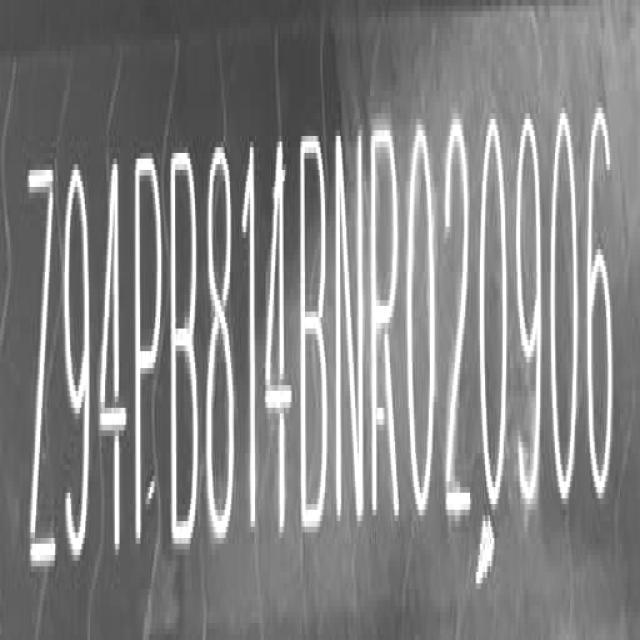0: (406, 117, 439, 533), (477, 117, 509, 522), (548, 112, 580, 513)
1: (242, 145, 260, 553)
2: (443, 114, 477, 526)
4: (97, 160, 130, 576), (263, 136, 295, 545)
6: (587, 108, 619, 510)
8: (206, 145, 237, 547)
9: (60, 162, 92, 579), (515, 118, 545, 521)
B: (169, 145, 204, 561), (300, 129, 334, 538)
N: (338, 123, 368, 532)
P: (132, 151, 165, 570)
R: (371, 116, 405, 528)
Z: (25, 152, 58, 590)
